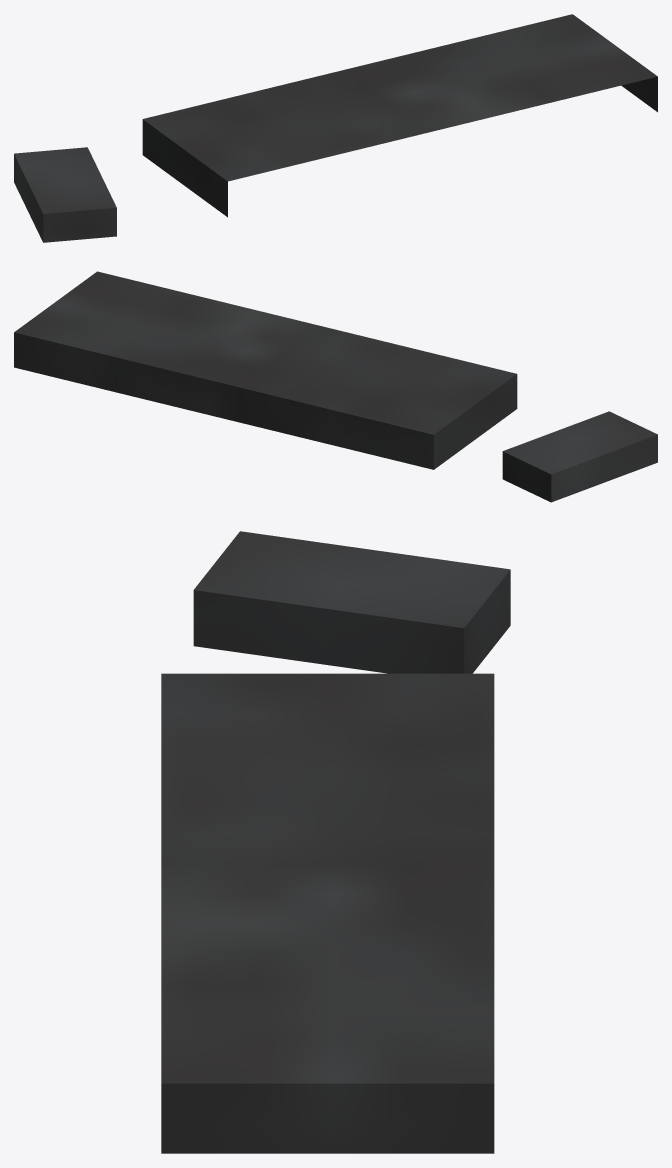
The model's file is keyboardMouse.fbx.
3 views of the same model, one above another, from view 1: azimuth 30°, elevation 25°; view 2: azimuth 150°, elevation 25°; view 3: azimuth 270°, elevation 25° (orthographic). The views are drawn at different scales.
Visible parts, largest first — view 1: Cube.001; view 2: Cube.001; view 3: Cube.001.
Part boxes in pixels (<box>): Cube.001: <box>14,14,657,242</box>; Cube.001: <box>14,271,657,502</box>; Cube.001: <box>161,531,510,1153</box>.
Size of the model in its own units: 0.9633 by 0.0557 by 0.2512.
